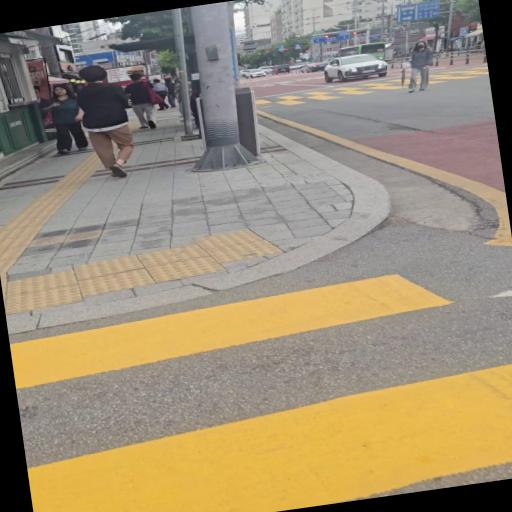yellow-crosswalk: (6, 249, 512, 512), (244, 60, 490, 120)
